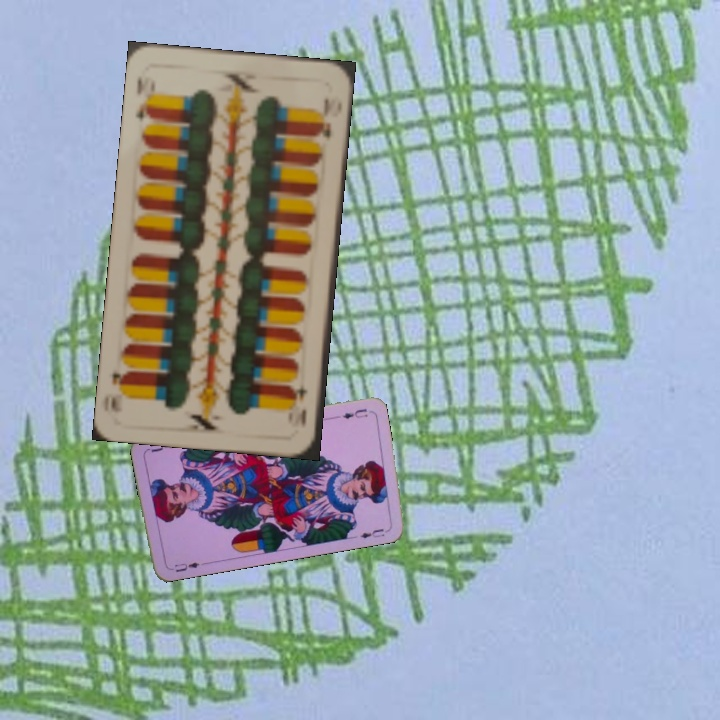E10: (131, 72, 156, 124), (288, 373, 310, 431)
EU: (166, 558, 206, 575), (339, 404, 370, 421)
